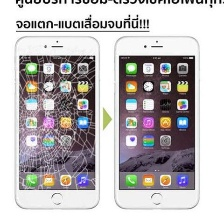phone: (110, 32, 203, 212), (12, 33, 103, 213)
